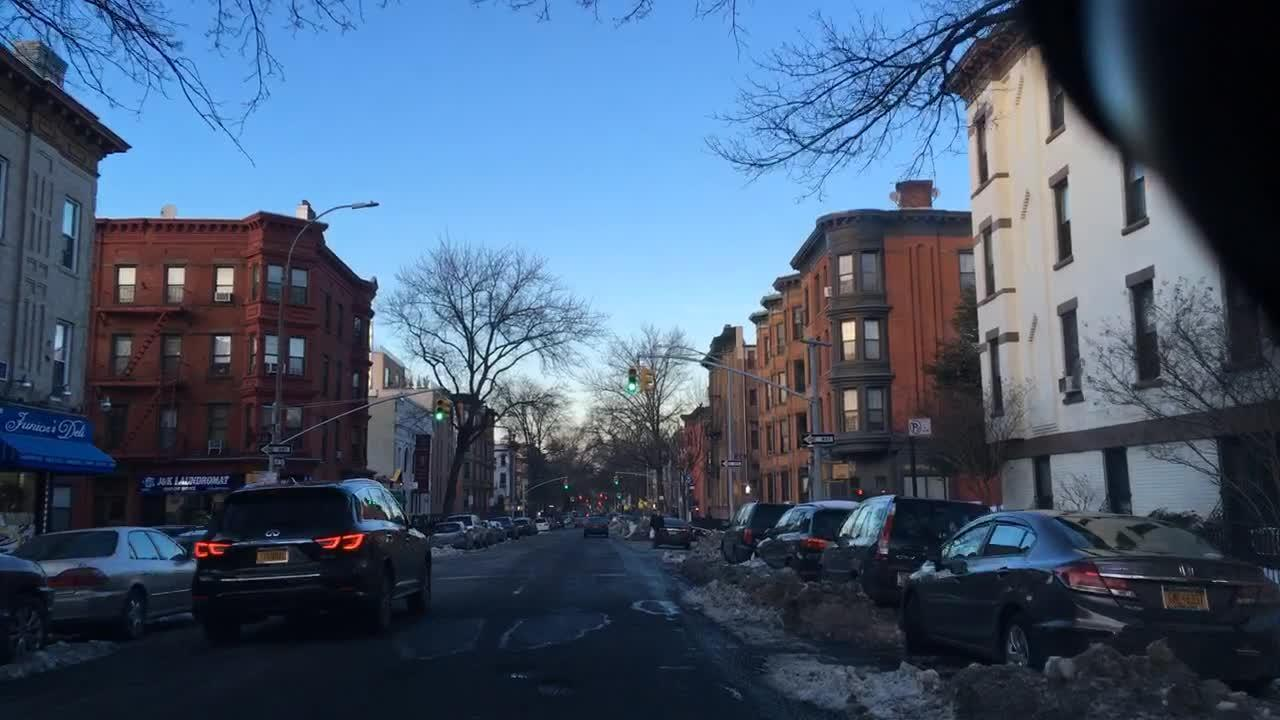Honda: (1172, 559, 1203, 583)
Infiniti: (260, 527, 282, 537)
